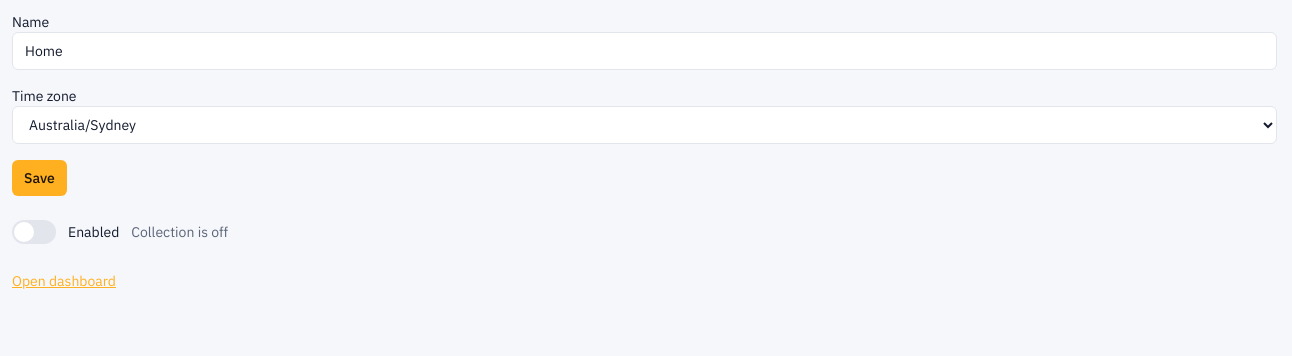
Test: GeneralTab › shows a failed toggle error near the toggle, not in the Save form
Click the switch named "Enabled".
click(34, 232)  # box [12,220,56,244]
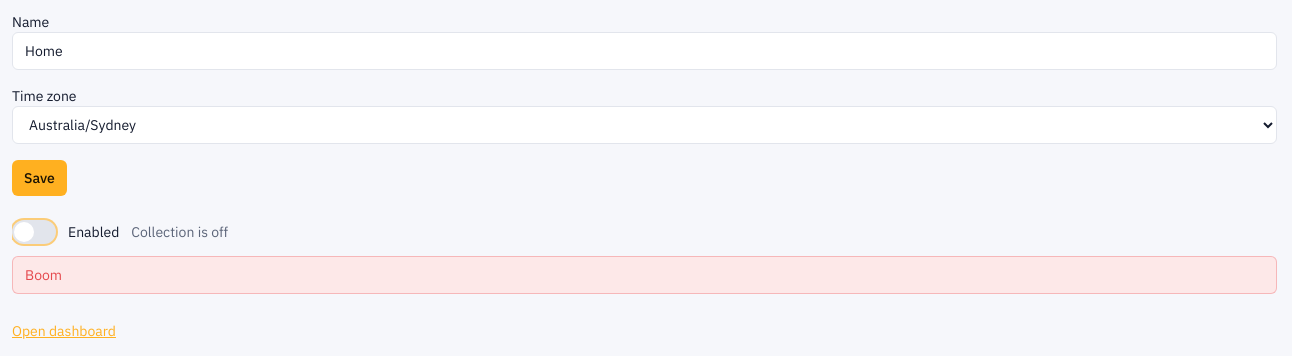
expect the message reads "Boom": met, box [25,266,62,284]
expect the number of messages is 1: met, box [12,256,1277,294]
